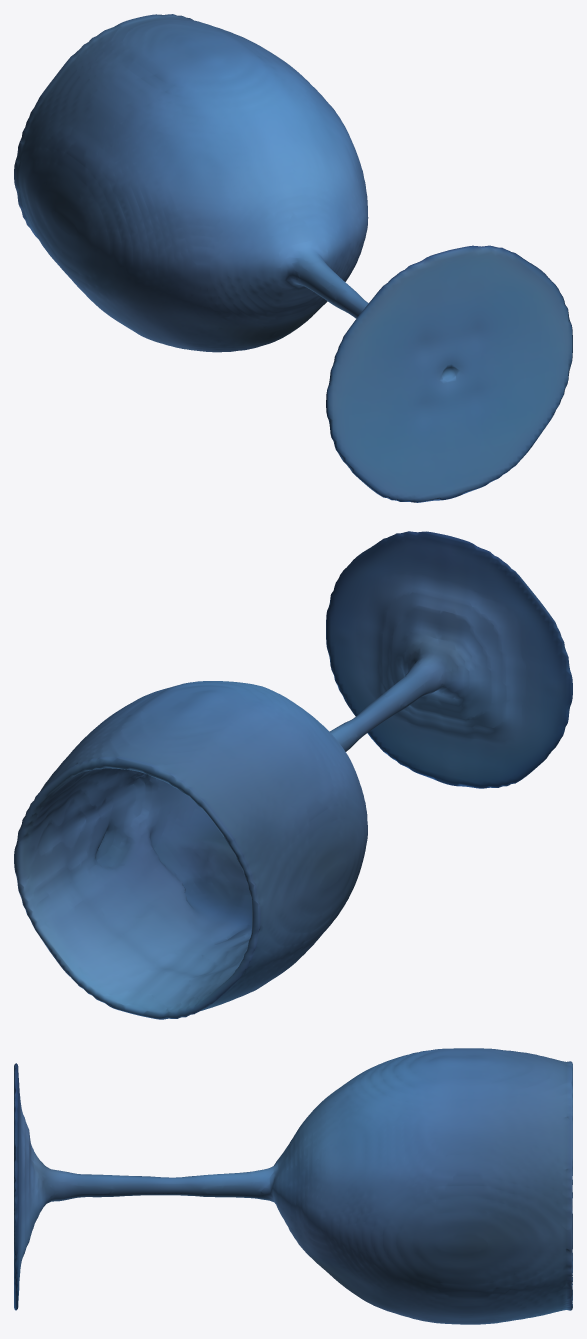
The model's file is 20240326134753_generated.FBX.
3 renders of one model, top to bottom at view 1: azimuth 30°, elevation 25°; view 2: azimuth 150°, elevation 25°; view 3: azimuth 270°, elevation 25°, orthographic. The views are drawn at different scales.
Visible parts, largest first — view 1: plyFile; view 2: plyFile; view 3: plyFile.
Part boxes in pixels (x1,y1,x2,y2): plyFile: [14, 14, 572, 502]; plyFile: [14, 531, 572, 1019]; plyFile: [14, 1048, 572, 1324].
Bounding box in the file's own units: 98.22 × 99 × 198.
